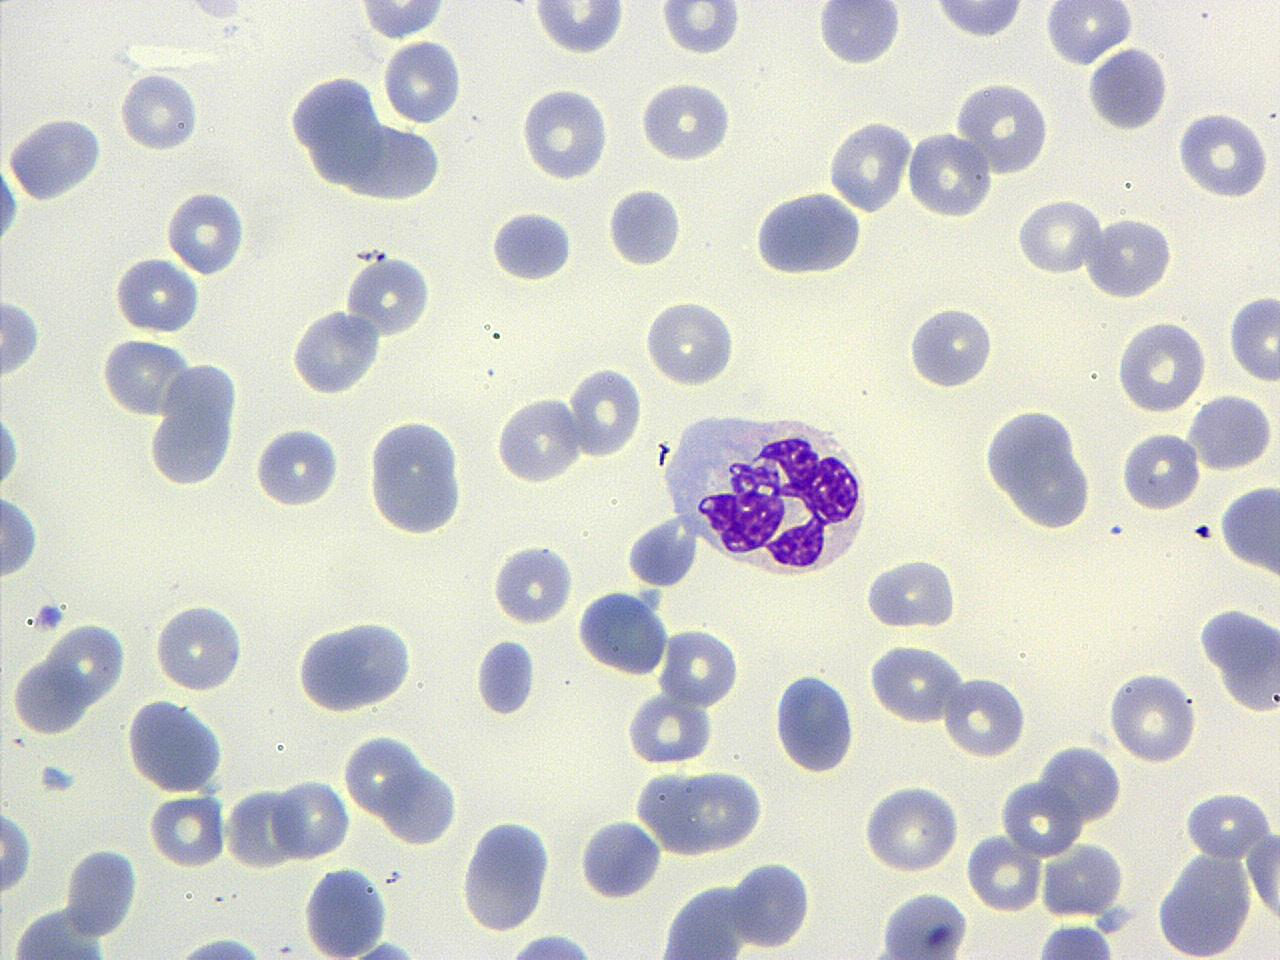Platelets: (904, 301, 996, 390), (165, 188, 253, 278), (252, 424, 344, 510), (861, 559, 964, 632), (490, 542, 576, 628), (116, 70, 204, 154), (488, 205, 578, 286), (605, 184, 687, 268), (878, 888, 970, 958), (472, 634, 538, 720), (528, 2, 629, 56), (656, 3, 740, 56), (167, 935, 273, 960), (0, 163, 21, 248), (0, 408, 21, 492), (182, 0, 244, 23), (37, 762, 78, 794), (36, 602, 65, 632), (1193, 522, 1215, 540)
RBC: (284, 65, 452, 204), (366, 412, 466, 538), (951, 76, 1052, 176), (860, 780, 960, 876), (151, 598, 248, 694), (1173, 106, 1273, 199), (1105, 668, 1201, 764), (1114, 316, 1208, 414), (517, 85, 611, 182), (641, 295, 739, 388), (1198, 605, 1280, 715), (287, 306, 382, 398), (574, 586, 671, 676), (637, 75, 736, 163), (904, 300, 998, 392), (494, 390, 584, 484), (826, 117, 914, 213), (865, 642, 963, 726), (343, 251, 436, 339), (728, 858, 816, 950), (163, 186, 251, 278), (61, 842, 143, 938), (906, 129, 992, 220), (1083, 216, 1175, 300), (99, 333, 188, 419), (1185, 390, 1277, 473), (568, 362, 646, 458), (489, 540, 574, 628), (1014, 195, 1104, 278), (1038, 838, 1126, 922), (342, 730, 423, 820), (112, 254, 203, 334), (942, 674, 1027, 759), (383, 36, 463, 126), (118, 68, 200, 155), (876, 888, 974, 960), (380, 760, 462, 846), (1120, 426, 1202, 512), (270, 774, 350, 862), (659, 625, 742, 709), (604, 185, 686, 270), (6, 654, 87, 737), (999, 778, 1083, 858), (964, 828, 1041, 914), (224, 782, 299, 870), (624, 692, 712, 766), (147, 790, 227, 871), (1042, 0, 1136, 68), (1183, 788, 1271, 860), (530, 1, 630, 58), (1225, 290, 1279, 384), (659, 2, 742, 58), (1, 288, 47, 386), (928, 0, 1029, 41), (354, 0, 450, 40), (1244, 824, 1280, 930), (1032, 922, 1120, 960), (0, 804, 33, 896)
WBC: (656, 403, 876, 585), (283, 64, 460, 201), (6, 612, 138, 744), (981, 403, 1099, 533), (145, 351, 248, 496), (367, 406, 472, 544), (292, 612, 420, 716), (632, 760, 768, 856), (458, 812, 556, 934), (1152, 850, 1258, 958), (751, 187, 866, 280), (124, 696, 230, 796), (954, 75, 1052, 179), (151, 597, 254, 695), (4, 111, 110, 205), (1199, 600, 1280, 716), (300, 861, 396, 958), (772, 668, 856, 776), (576, 586, 673, 678), (288, 307, 383, 398), (865, 548, 962, 631), (346, 248, 434, 339), (62, 839, 142, 939), (1086, 42, 1170, 134), (578, 814, 664, 900), (9, 650, 90, 738), (876, 888, 972, 960), (488, 206, 574, 285), (606, 182, 684, 269), (1218, 476, 1278, 582), (4, 904, 118, 959), (814, 1, 904, 68), (624, 514, 700, 590), (0, 487, 44, 584), (482, 928, 618, 959), (928, 0, 1032, 39), (354, 0, 456, 38), (1027, 922, 1125, 960), (162, 931, 280, 960)
